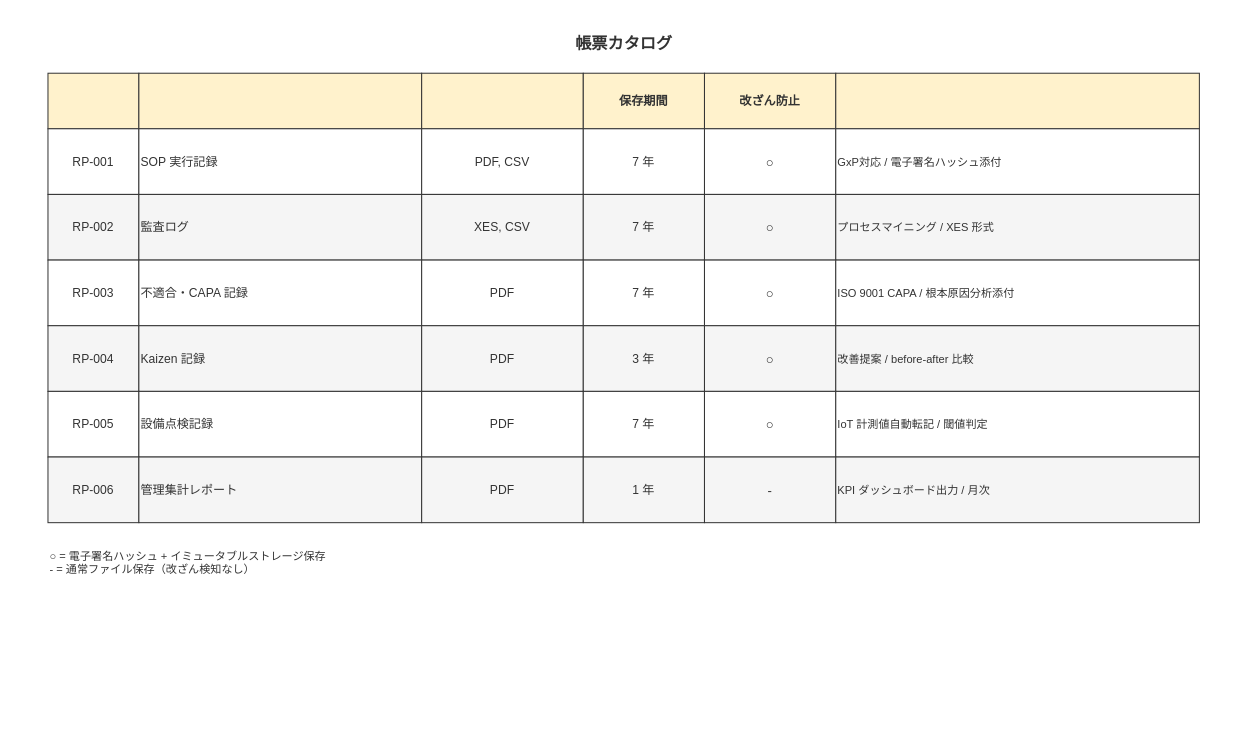
Some shapes in this 1246 by 741 pixel diagram are drawn without their labels. Here are the shapes that lost their labels. From the top down, the centre of each, then its label:
(93,100): RP-ID
(280,100): 帳票名
(502,100): 出力形式
(1017,100): 備考
